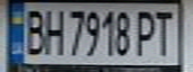1: (100, 7, 118, 56)
7: (63, 6, 84, 56)
8: (115, 7, 133, 56)
9: (81, 7, 103, 56)
B: (21, 6, 48, 56)
H: (42, 6, 66, 56)
P: (133, 7, 160, 57)
T: (151, 7, 178, 57)
